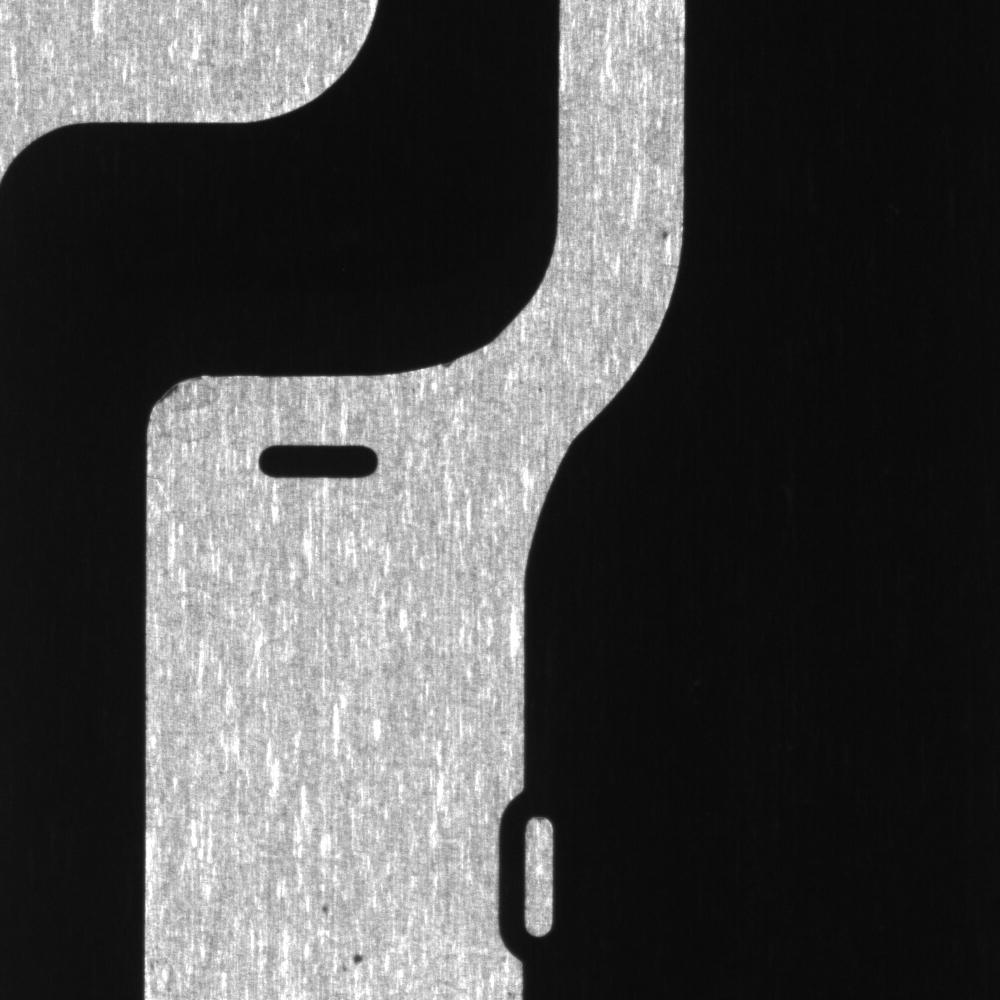Discolor: (143, 368, 240, 465)
Etching: (325, 927, 388, 990), (423, 352, 484, 386)
Pinhole: (649, 209, 680, 251), (305, 895, 347, 917)
